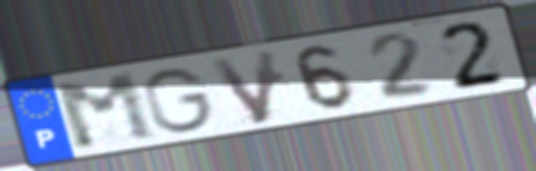2: (366, 31, 440, 103), (435, 19, 507, 93)
6: (292, 42, 359, 112)
G: (139, 66, 218, 137)
M: (49, 69, 162, 154)
V: (205, 46, 280, 128)
